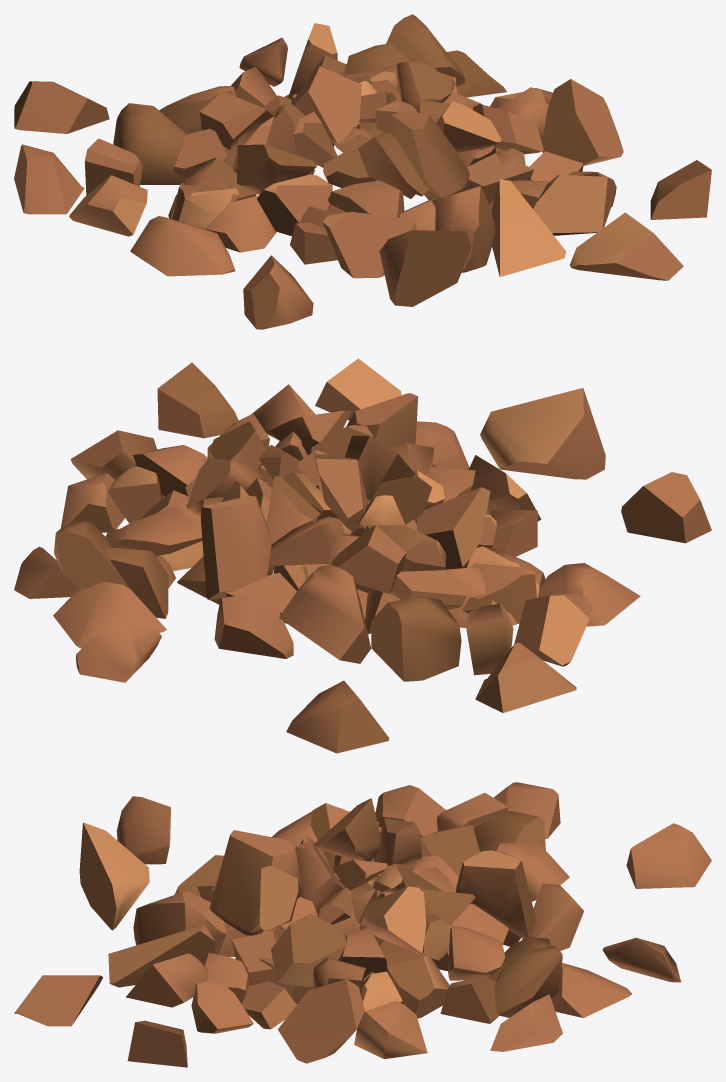
Rendered from StoneB_LPC_Brown.fbx.
3 renders of one model, top to bottom at view 1: azimuth 30°, elevation 25°; view 2: azimuth 150°, elevation 25°; view 3: azimuth 270°, elevation 25°, orthographic. The views are drawn at different scales.
Parts seen in each view (by area): view 1: tyFlow_node_001; view 2: tyFlow_node_001; view 3: tyFlow_node_001.
Boxes of the visible parts, x1=… form: tyFlow_node_001: x1=14, y1=14, x2=711, y2=329; tyFlow_node_001: x1=14, y1=358, x2=711, y2=753; tyFlow_node_001: x1=14, y1=782, x2=711, y2=1067.
Size of the model in its own units: 116 by 27.23 by 132.
1 material, 1 textured.
